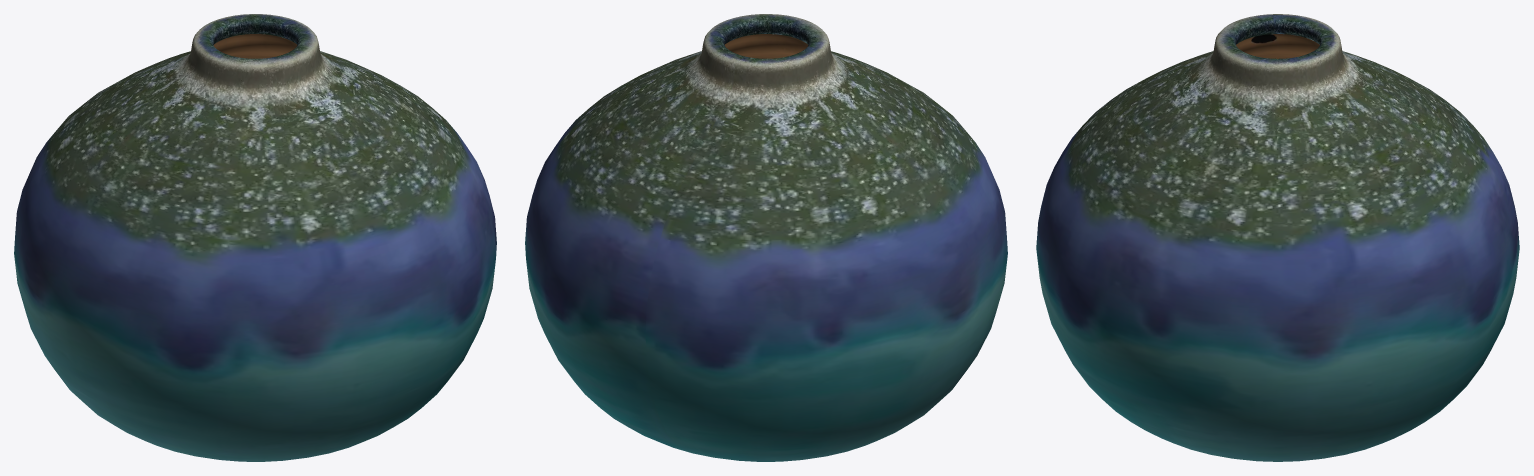
Rendered from B078JGRLCJ.glb.
3 renders of one model, left to right at view 1: azimuth 30°, elevation 25°; view 2: azimuth 150°, elevation 25°; view 3: azimuth 270°, elevation 25°, orthographic.
Parts seen in each view (by area): view 1: RootNode; view 2: RootNode; view 3: RootNode.
Part boxes in pixels (box(x1,y1,x2,y2)): RootNode: box(14, 14, 496, 461); RootNode: box(525, 14, 1007, 461); RootNode: box(1036, 14, 1519, 461).
Bounding box in the file's own units: 0.1539 × 0.1332 × 0.1539.
1 material, 1 textured.
